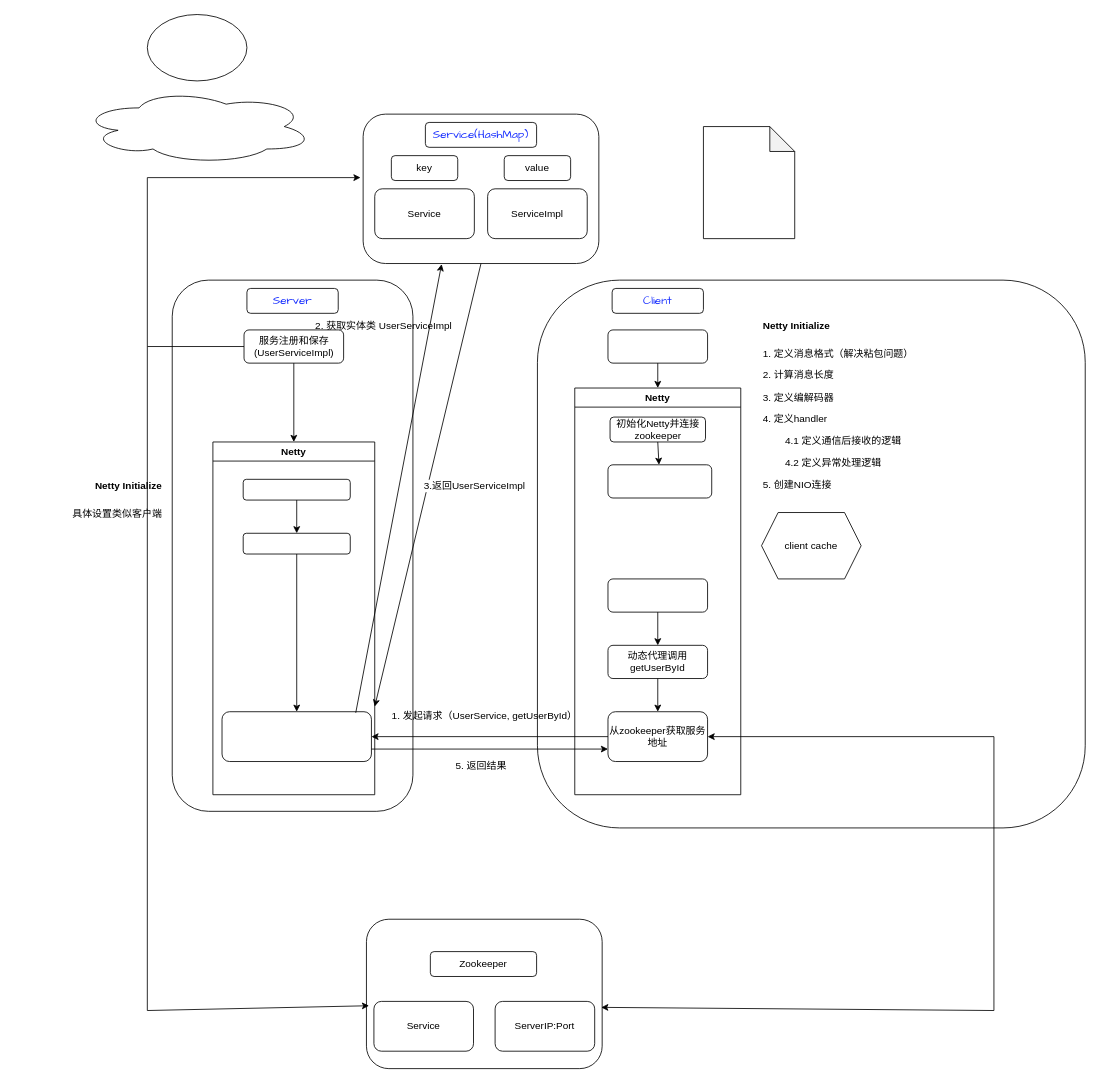
This 1100x1083 diagram has some shape labels left out. The centre of each missing label's shape, as x and y in pixels:
4. method.invoke(serviceImpl, args): [296,736]
MyRPC version2.2: [196,47]
Optimize: 1. Netty自定义序列化器和编解码器 2. 客户端建立本地缓存: [196,126]
初始化: [296,489]
初始化本地缓存: [659,481]
反射获取UserService代理: [657,595]
实例化proxy: [657,346]
监听端口: [296,543]
补充说明： UserService提供一个方法 getUserById: [749,182]
